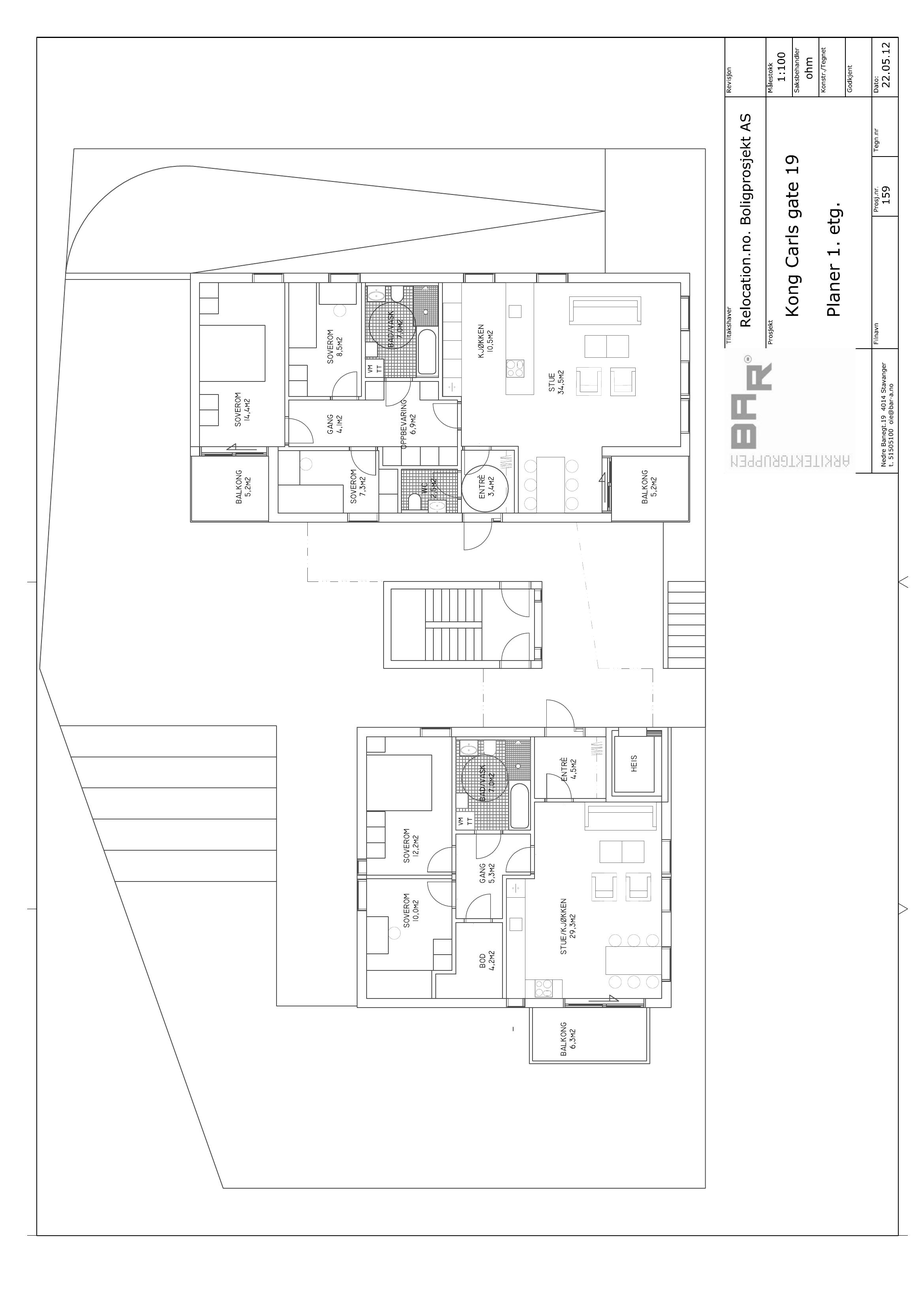plantegning: (188, 271, 706, 1064)
